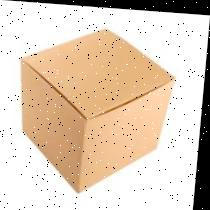cube: (14, 23, 180, 199)
